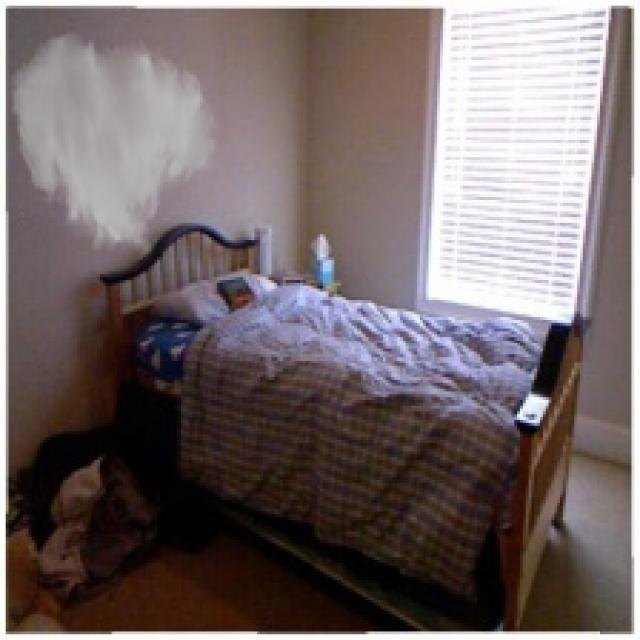Smoke: (8, 28, 220, 260)
